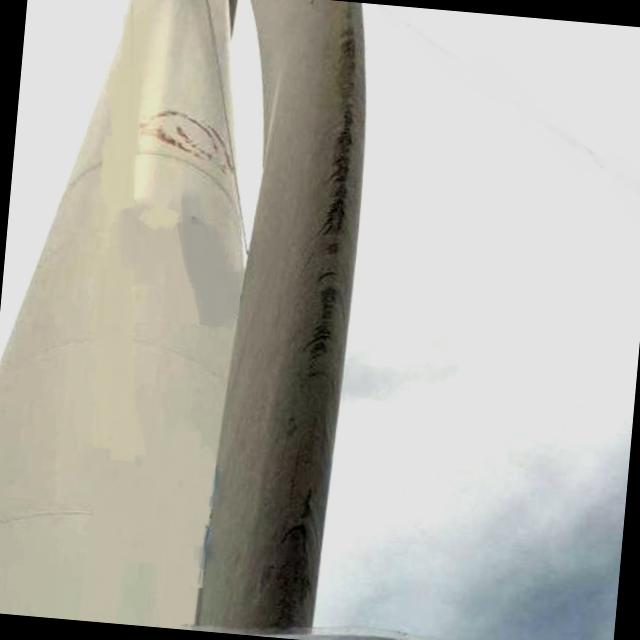corrosion: (291, 15, 372, 378), (264, 479, 324, 636)
